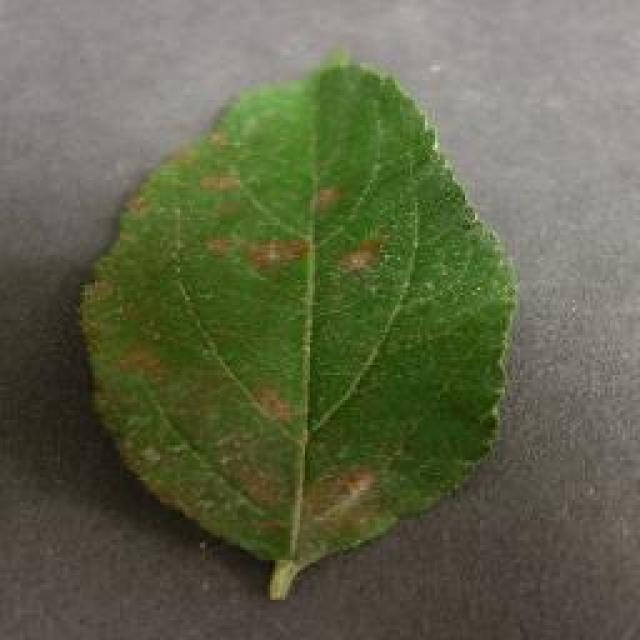apple healthy: (75, 52, 520, 600)
